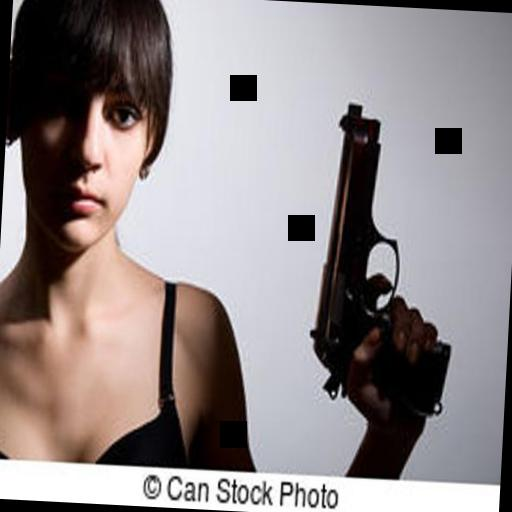Handgun: (305, 97, 456, 418)
